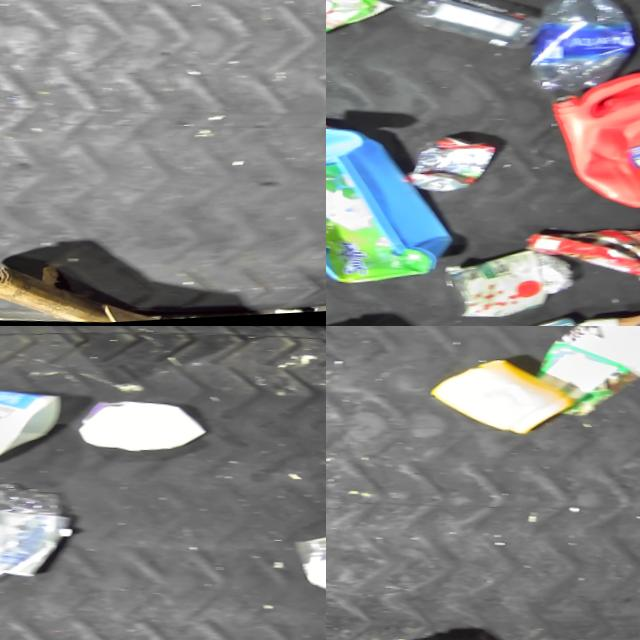can: (445, 246, 578, 326), (406, 134, 502, 200)
non_white_jug: (326, 114, 471, 297), (539, 50, 640, 225), (326, 0, 428, 50)
plastic_bottle: (532, 0, 640, 100), (373, 0, 546, 60), (0, 477, 67, 606)
